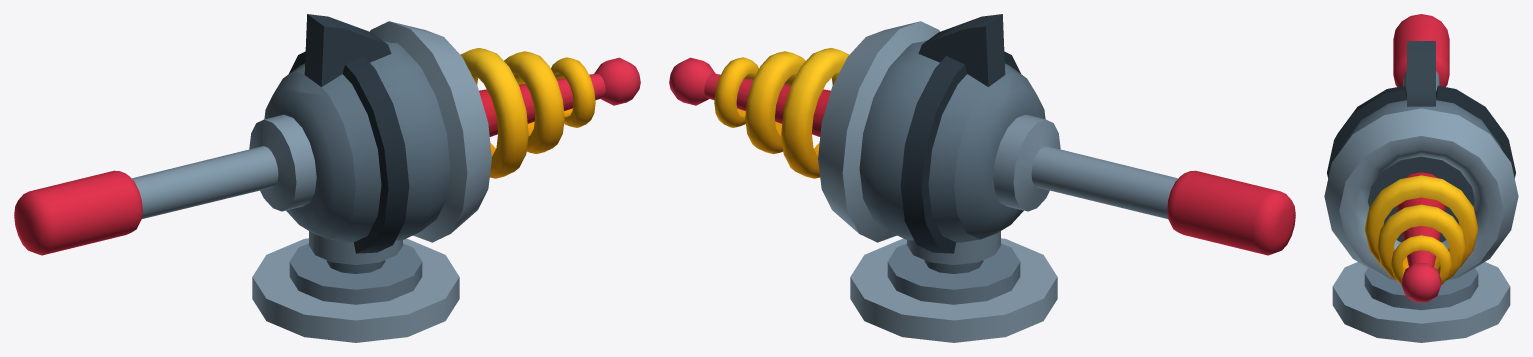
The model's file is LaserGunMounted.fbx.
3 views of the same model, side by side, from view 1: azimuth 30°, elevation 25°; view 2: azimuth 150°, elevation 25°; view 3: azimuth 270°, elevation 25° (orthographic). The views are drawn at different scales.
Parts seen in each view (by area): view 1: LaserGun_Head, LaserGun_HeadBack, LaserGun_HeadRotateHandle; view 2: LaserGun_Head, LaserGun_HeadBack, LaserGun_HeadRotateHandle; view 3: LaserGun_Head, LaserGun_HeadBack, LaserGun_HeadRotateHandle.
Part boxes in pixels (x1,y1,x2,y2): LaserGun_Head: (284, 14, 640, 253); LaserGun_HeadBack: (252, 72, 459, 342); LaserGun_HeadRotateHandle: (14, 114, 316, 255); LaserGun_Head: (669, 14, 1025, 253); LaserGun_HeadBack: (850, 72, 1057, 342); LaserGun_HeadRotateHandle: (993, 114, 1295, 255); LaserGun_Head: (1324, 41, 1518, 302); LaserGun_HeadBack: (1332, 262, 1510, 342); LaserGun_HeadRotateHandle: (1393, 14, 1449, 91).
Bounding box in the file's own units: 424 × 596 × 1323.
